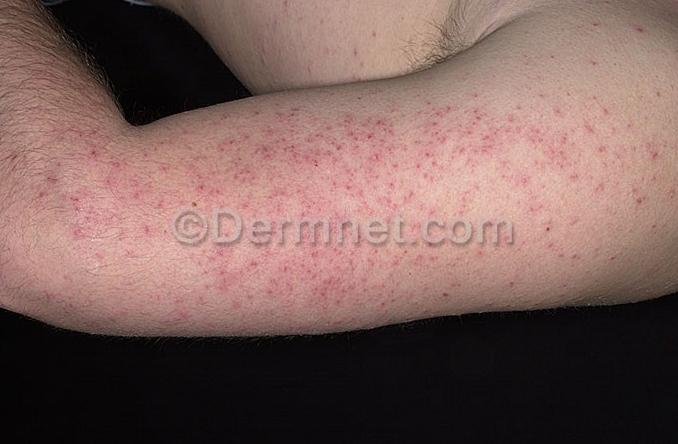edema 1: (7, 102, 674, 326)
eritema 1: (54, 107, 622, 310)
